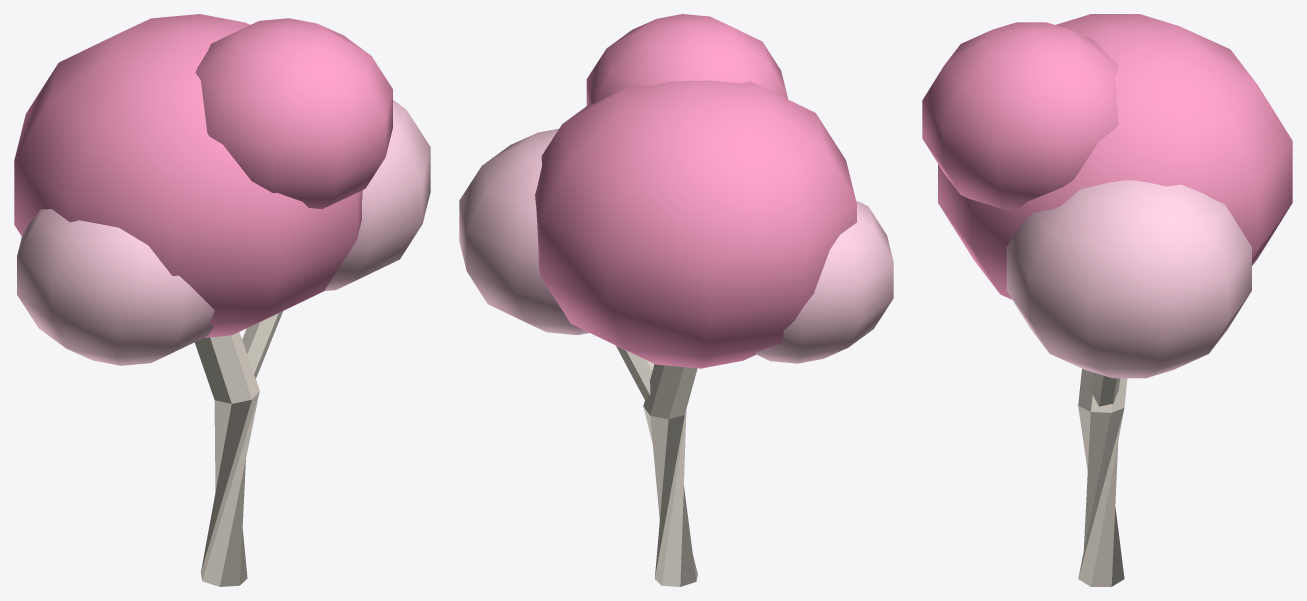
Rendered from tree_f.glb.
3 views of the same model, side by side, from view 1: azimuth 30°, elevation 25°; view 2: azimuth 150°, elevation 25°; view 3: azimuth 270°, elevation 25° (orthographic). The views are drawn at different scales.
Parts seen in each view (by area): view 1: tree_f; view 2: tree_f; view 3: tree_f.
Boxes of the visible parts, x1,y1,x2,y2 form: tree_f: [14, 14, 430, 586]; tree_f: [459, 14, 893, 586]; tree_f: [922, 14, 1292, 586].
Bounding box in the file's own units: 3.28 × 4.39 × 2.65.
